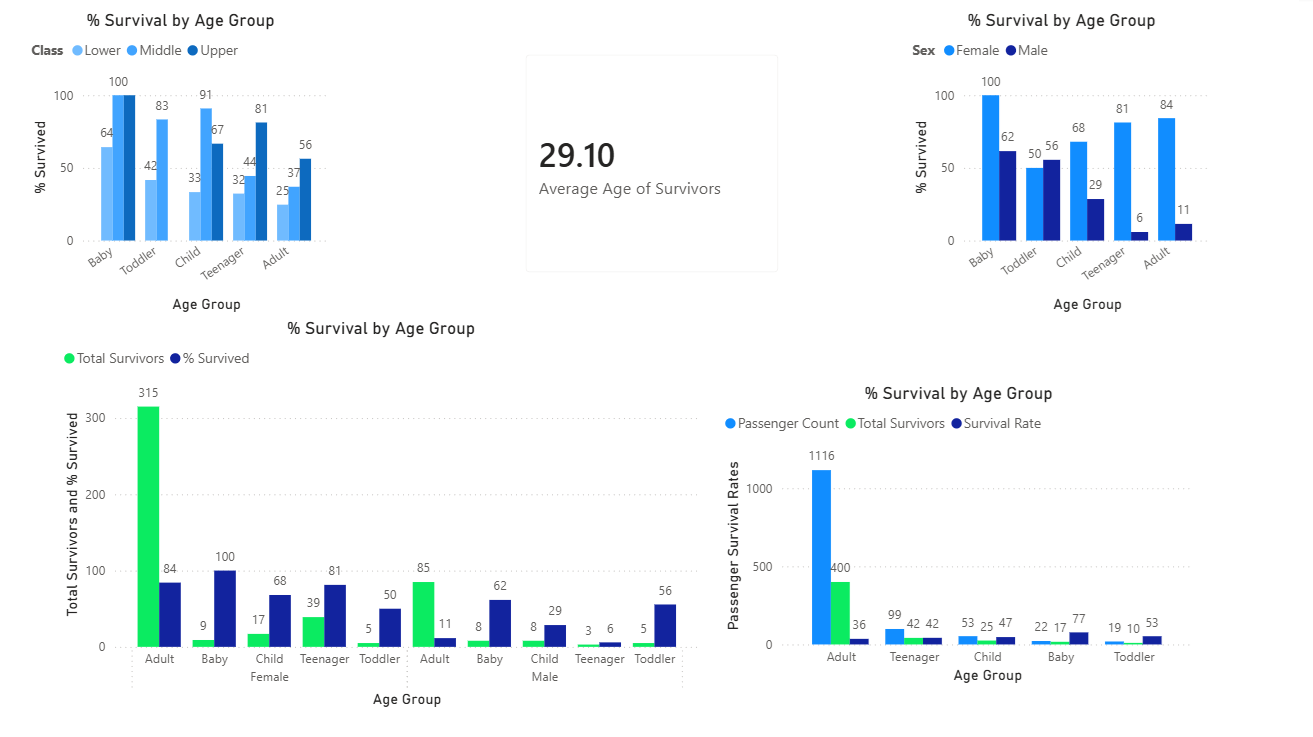

The page's visual inventory and layout, read from the dashboard file:
{"tool":"powerbi","page":{"name":"Age Groups","canvas":[1280,720],"ordinal":3},"visuals":[{"type":"clusteredColumnChart","title":"% Survival by Age Group","fields":{"Y":["gold fact_table.Survival Rate"],"Category":["gold fact_table.AgeGroup"],"Series":["gold fact_table.Class"]},"box":[41.8,17.5,300.5,299.6],"z":1000},{"type":"clusteredColumnChart","title":"% Survival by Age Group","fields":{"Y":["CountNonNull(gold fact_table.PassengerID)","gold fact_table.Total Survivors","gold fact_table.Survival Rate"],"Category":["gold fact_table.AgeGroup"]},"box":[715.9,380.3,465.9,297.6],"z":2000},{"type":"clusteredColumnChart","title":"% Survival by Age Group","fields":{"Y":["gold fact_table.Total Survivors","gold fact_table.Survival Rate"],"Category":["gold fact_table.Sex","gold fact_table.AgeGroup"]},"box":[72.9,317.1,628.3,384.2],"z":3000},{"type":"clusteredColumnChart","title":"% Survival by Age Group","fields":{"Y":["gold fact_table.Survival Rate"],"Category":["gold fact_table.AgeGroup"],"Series":["gold fact_table.Sex"]},"box":[898.7,17.5,300.5,299.6],"z":4000},{"type":"cardVisual","fields":{"Data":["gold dim_pass.Average Age of Survivors"]},"box":[510.6,43.8,280.1,246.1],"z":4001}]}

Visuals, with their boxes in screenshot pixels (x1, y1, x2, y2), scaled from the page's 1280x720 canvas onto the 1313x737 screenshot:
"% Survival by Age Group" clusteredColumnChart: detection(43, 18, 351, 325)
"% Survival by Age Group" clusteredColumnChart: detection(734, 389, 1212, 694)
"% Survival by Age Group" clusteredColumnChart: detection(75, 325, 719, 718)
"% Survival by Age Group" clusteredColumnChart: detection(922, 18, 1230, 325)
cardVisual - gold dim_pass.Average Age of Survivors: detection(524, 45, 811, 297)
